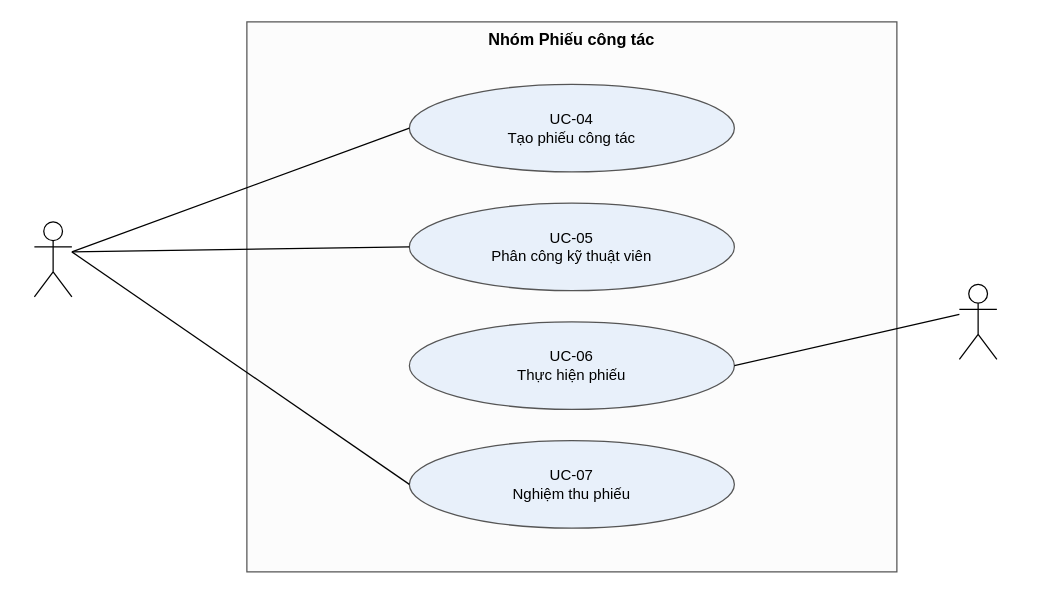
The diagram is 1043 pixels wide and 594 high, and some of its shapes have lost their labels. The centre of each missing label's shape, as x and y in pixels:
"Kỹ thuật viên" belongs at (x=977, y=321).
"Điều phối" belongs at (x=52, y=259).
